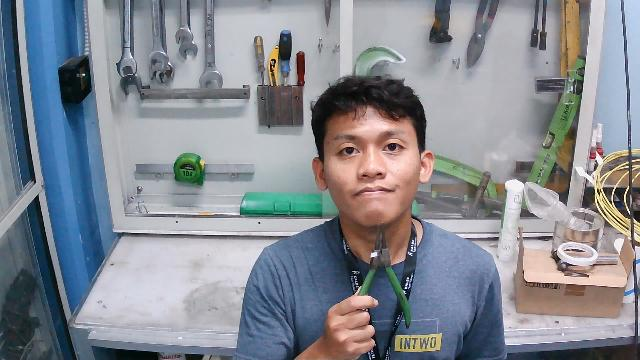tang_cucut_lancip_2: (337, 218, 421, 335)
